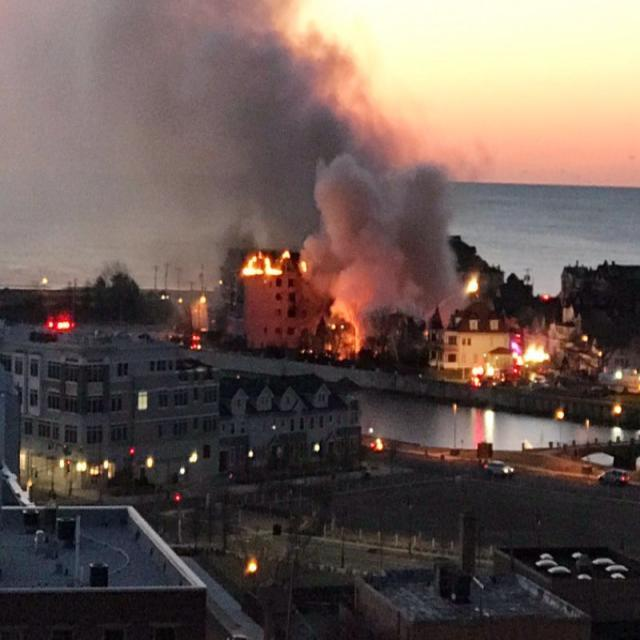Fire: (7, 245, 219, 295), (242, 251, 310, 289), (518, 341, 558, 371), (472, 348, 499, 392), (38, 312, 79, 330), (463, 268, 482, 302)
Smoke: (0, 0, 457, 241), (316, 245, 450, 322)
